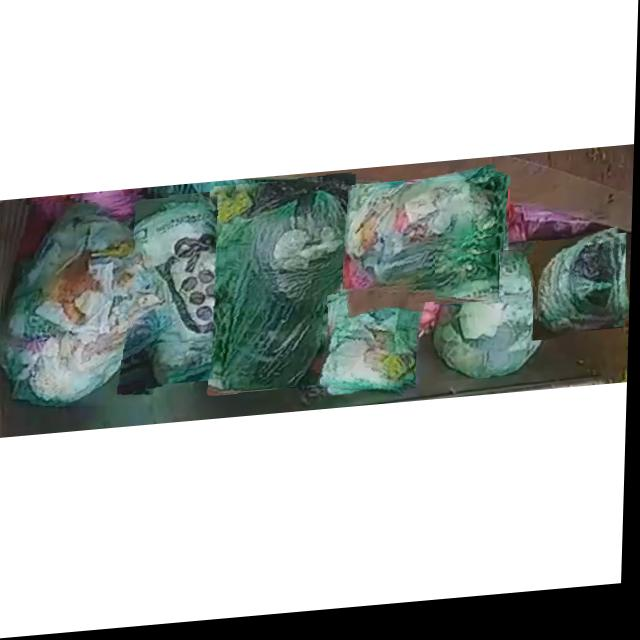general_trashbag: (3, 202, 169, 406), (222, 185, 353, 394), (137, 199, 247, 388), (346, 189, 509, 291), (436, 256, 547, 386), (324, 298, 413, 398), (540, 243, 621, 342)
